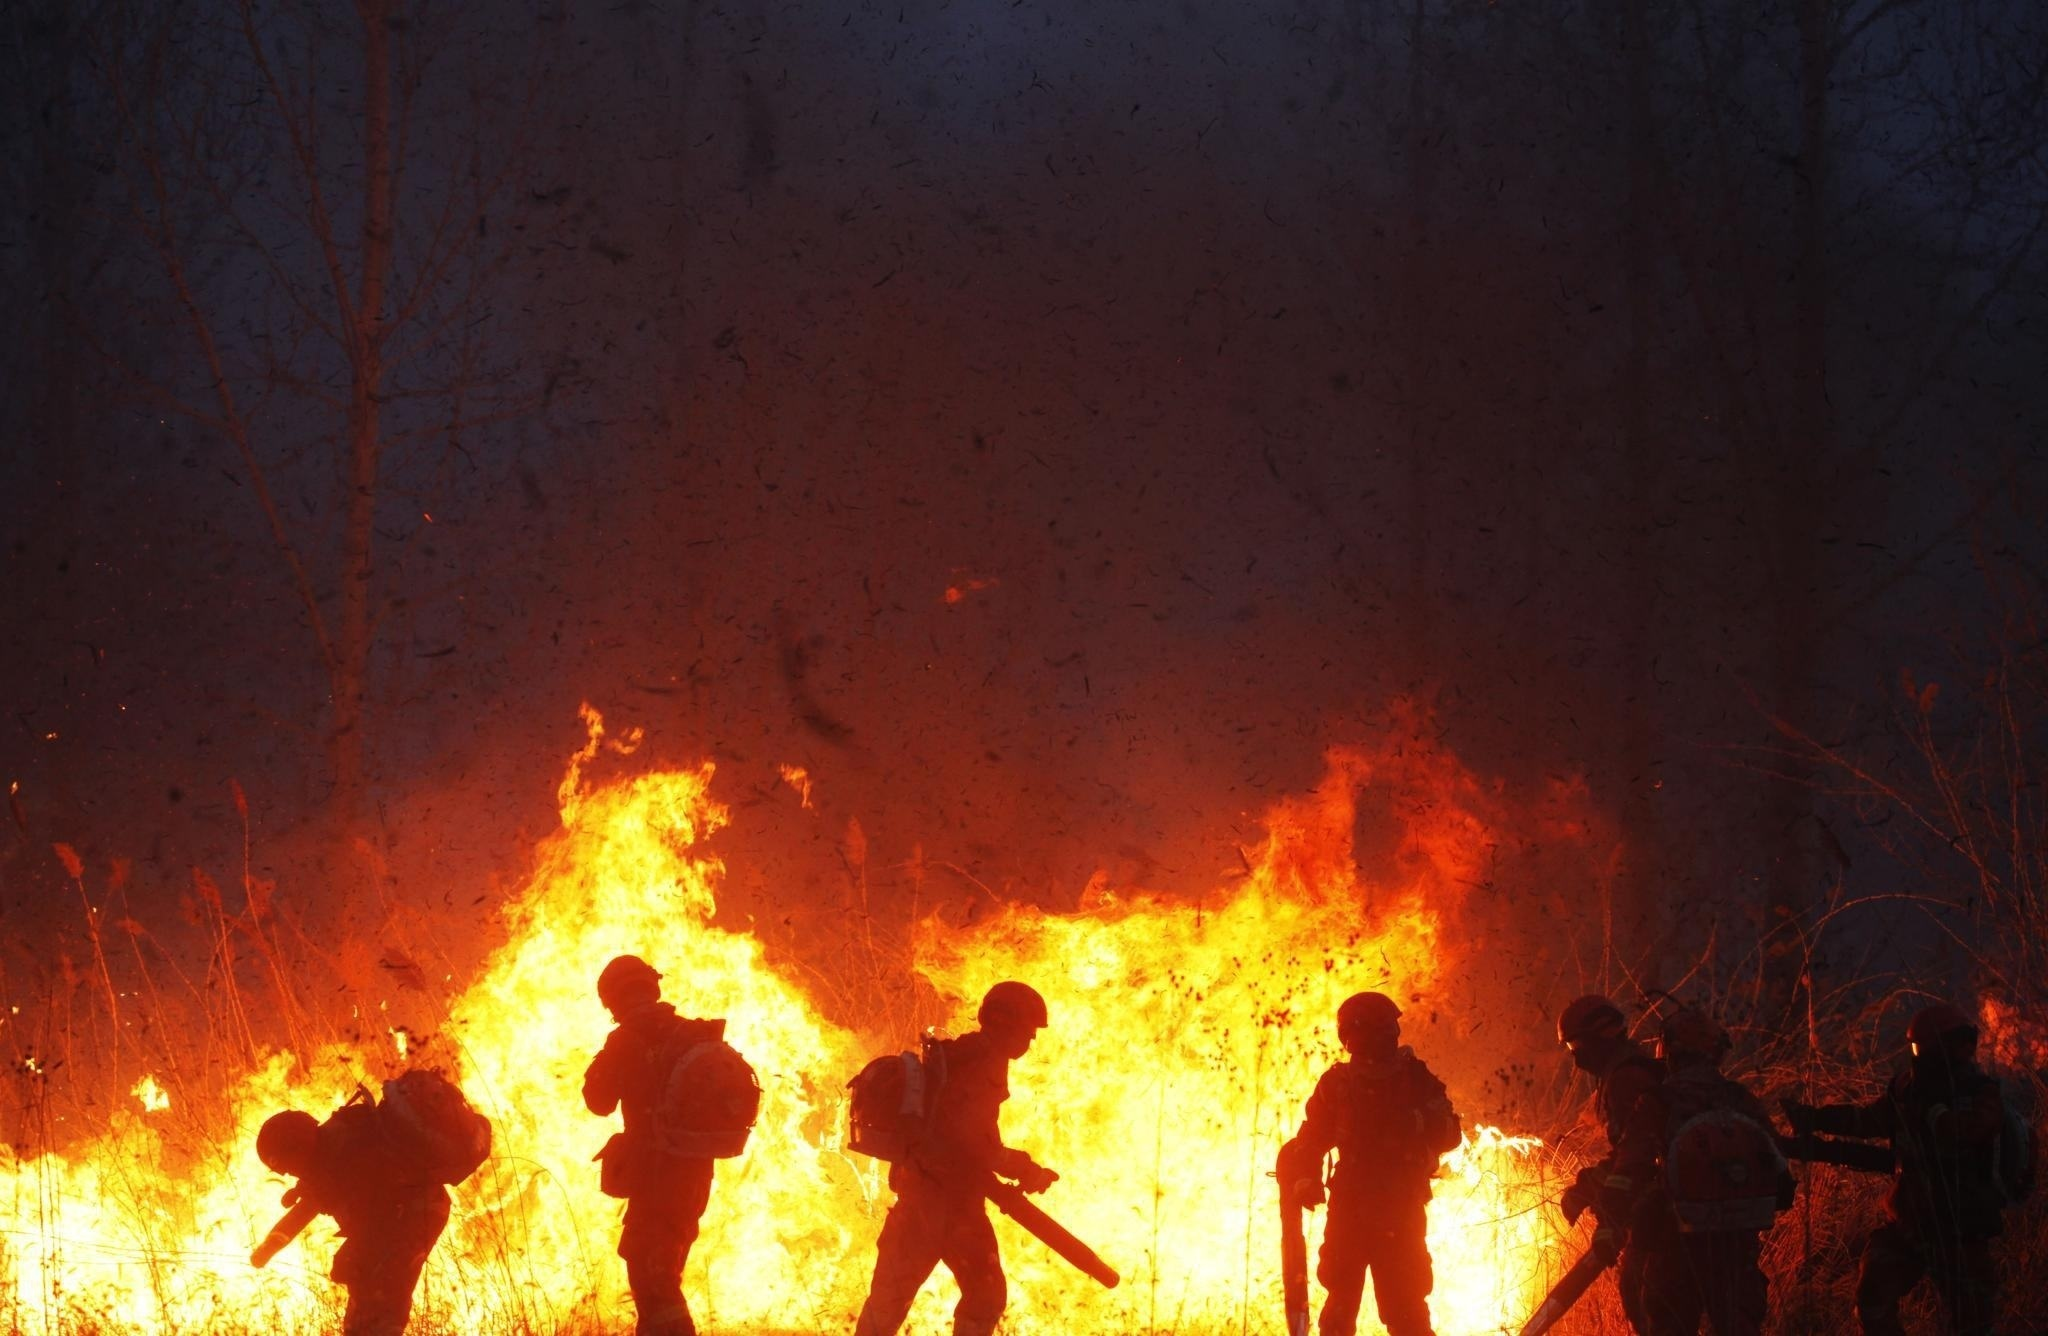fire: (0, 669, 1709, 1335)
